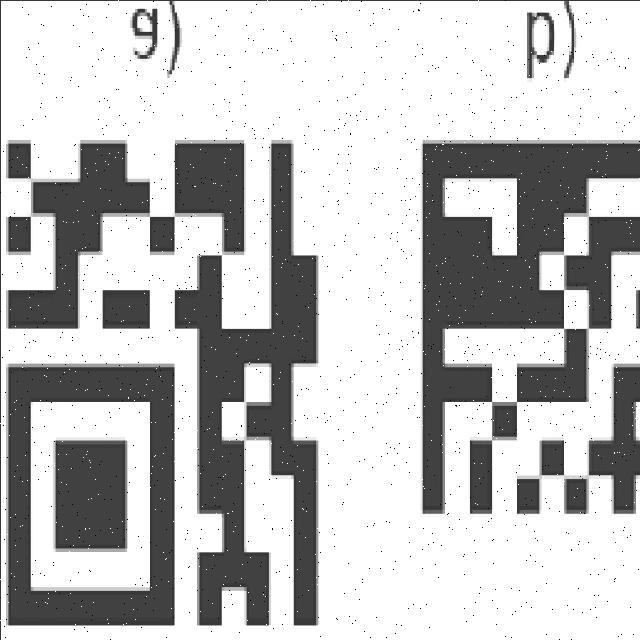datamatrix: (399, 112, 640, 551)
